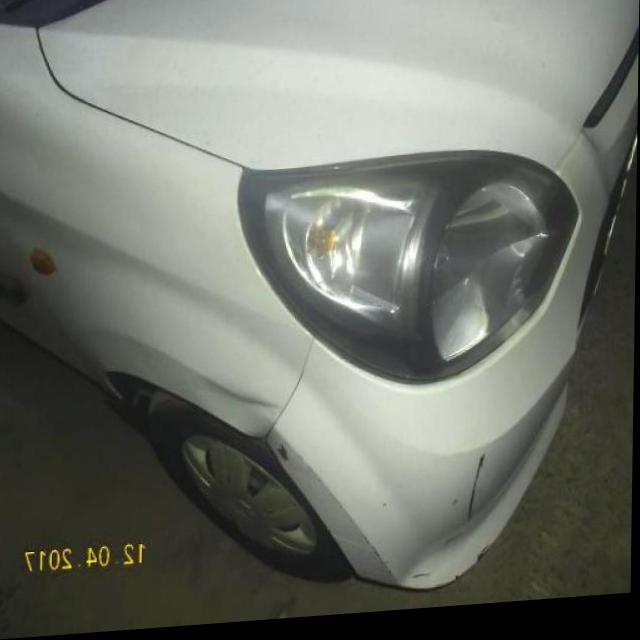Car-Damage: (209, 394, 283, 457), (361, 534, 400, 593), (466, 458, 494, 531), (475, 542, 499, 571), (276, 447, 292, 473)
